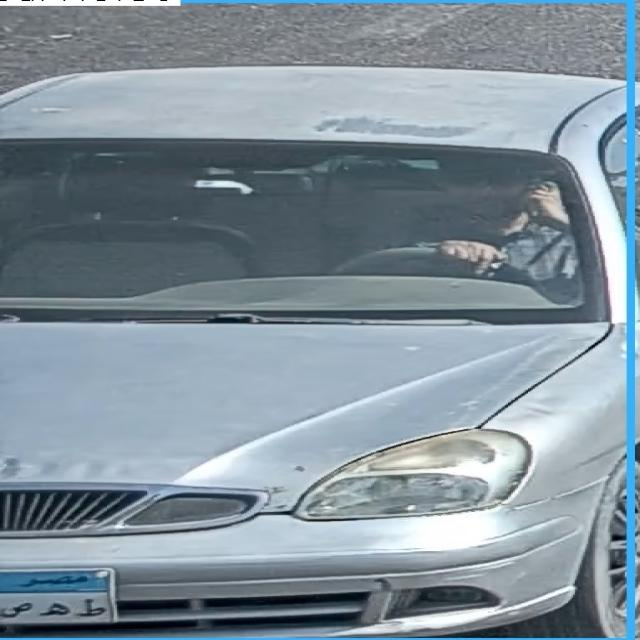windshield: (12, 138, 615, 320)
